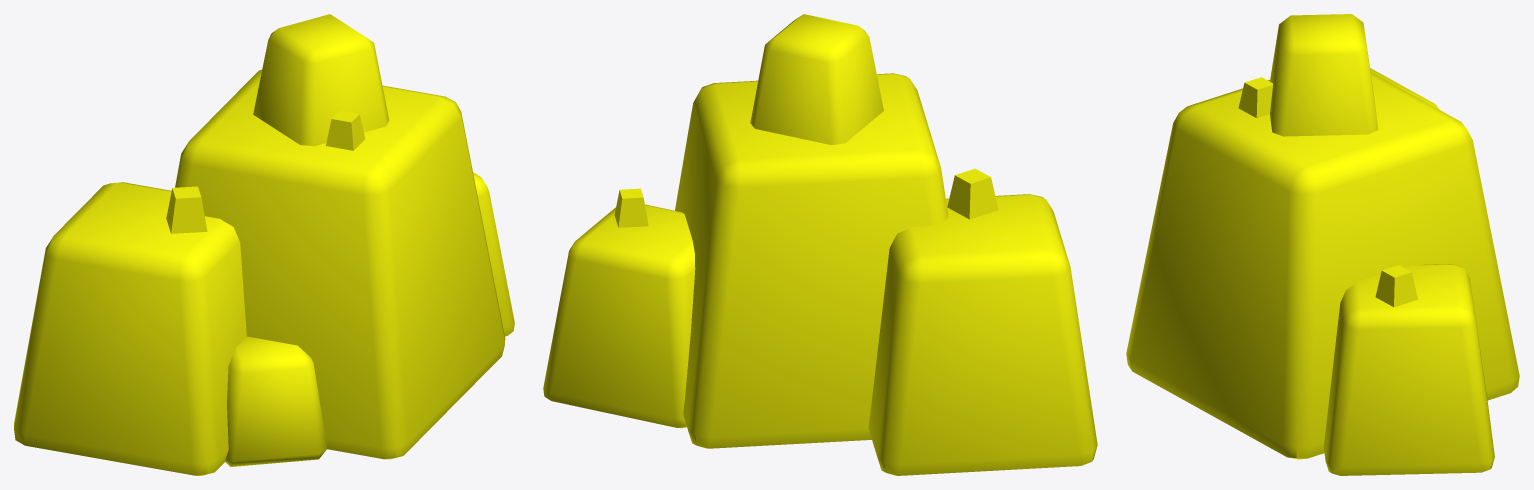
File: kaykit-rock-2-f-color-1.glb
3 views of the same model, side by side, from view 1: azimuth 30°, elevation 25°; view 2: azimuth 150°, elevation 25°; view 3: azimuth 270°, elevation 25° (orthographic).
Visible parts, largest first — view 1: Rock_2_F_Color1; view 2: Rock_2_F_Color1; view 3: Rock_2_F_Color1.
Boxes of the visible parts, box(x1,y1,x2,y2) form: Rock_2_F_Color1: box(14, 14, 514, 475); Rock_2_F_Color1: box(543, 14, 1097, 475); Rock_2_F_Color1: box(1126, 14, 1519, 475).
Bounding box in the file's own units: 4.14 × 2.86 × 2.87.
